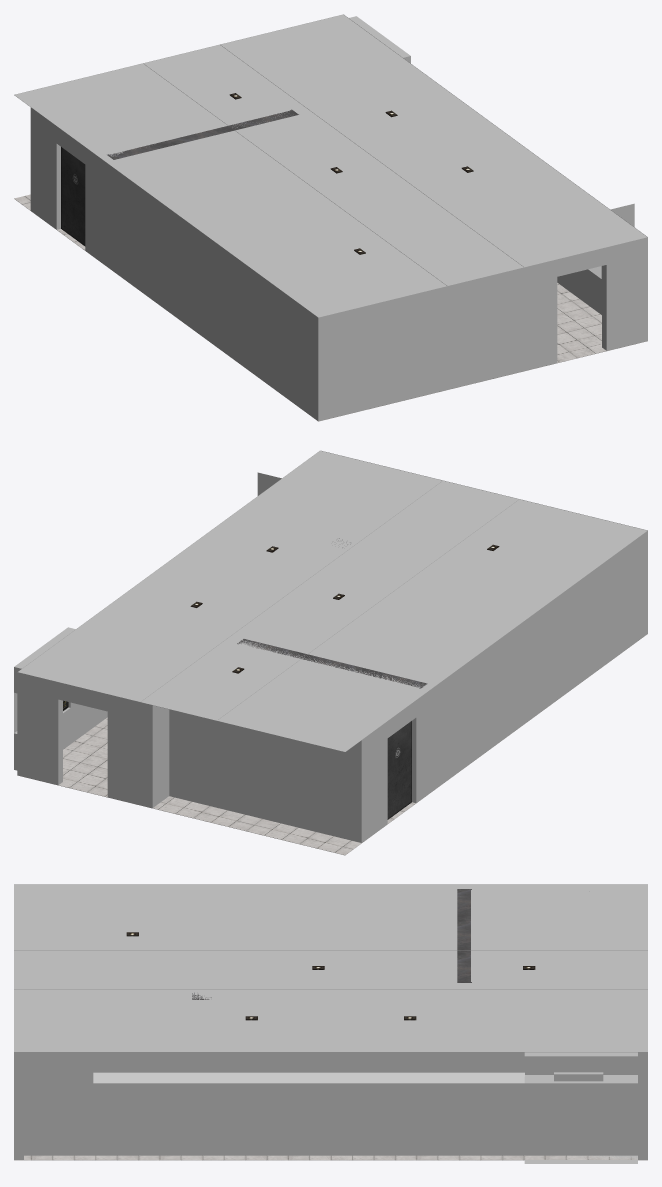
The model's file is LC_cont1_650.gltf.
The picture shows the model from 3 angles, top to bottom: view 1: azimuth 30°, elevation 25°; view 2: azimuth 150°, elevation 25°; view 3: azimuth 270°, elevation 25°; orthographic projection. The views are drawn at different scales.
Parts seen in each view (by area): view 1: LC_cont2_650; view 2: LC_cont2_650; view 3: LC_cont2_650.
Part boxes in pixels (bbox=[...]): LC_cont2_650: bbox=[14, 14, 647, 421]; LC_cont2_650: bbox=[14, 450, 647, 855]; LC_cont2_650: bbox=[14, 884, 647, 1163].
Size of the model in its own units: 13.76 by 4.35 by 20.48.
